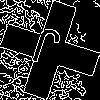J: (25, 25, 64, 77)
